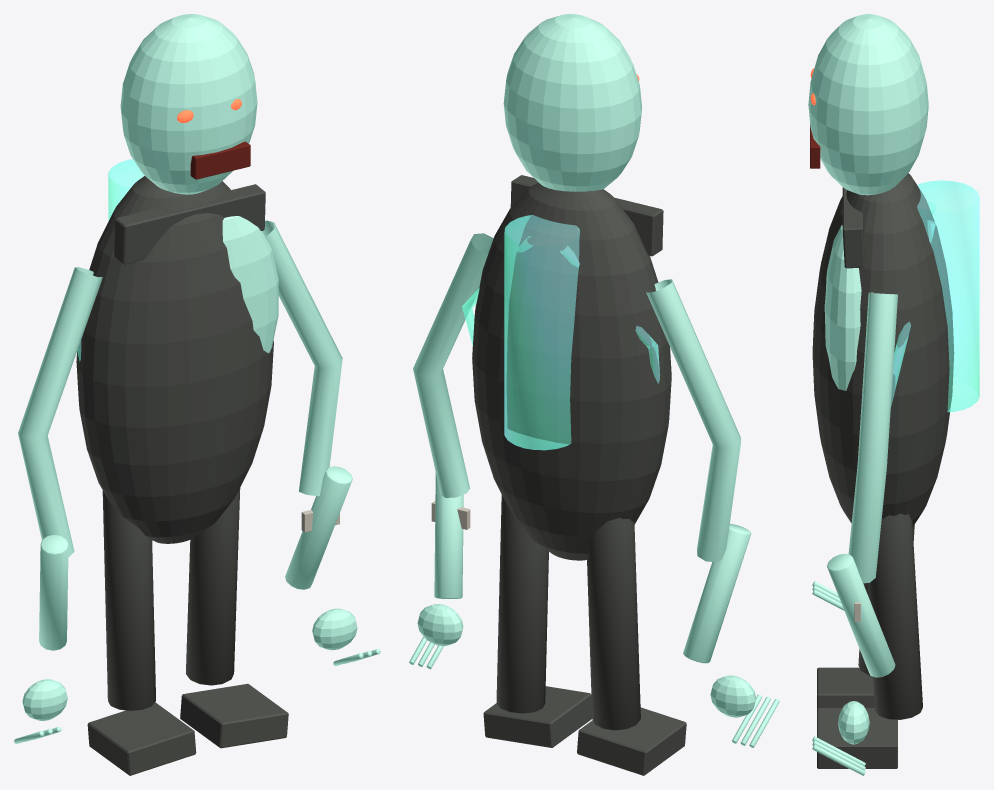
The model's file is dz_enemy_lab_male_A.glb.
3 renders of one model, left to right at view 1: azimuth 30°, elevation 25°; view 2: azimuth 150°, elevation 25°; view 3: azimuth 270°, elevation 25°, orthographic.
Visible parts, largest first — view 1: dz_torso_core, dz_head_forward, dz_limb_leg_L, dz_limb_arm_L, dz_limb_leg_R, dz_limb_arm_R, dz_foot_drag_L, dz_foot_drag_R, dz_chest_infected_growth, dz_torn_collar_male, dz_limb_forearm_R, dz_limb_forearm_L (+4 smaller); view 2: dz_torso_core, dz_head_forward, dz_back_lab_tank, dz_limb_leg_L, dz_limb_leg_R, dz_limb_arm_L, dz_limb_arm_R, dz_foot_drag_L, dz_foot_drag_R, dz_limb_forearm_L, dz_limb_forearm_R, dz_torn_collar_male (+3 smaller); view 3: dz_torso_core, dz_head_forward, dz_back_lab_tank, dz_limb_arm_R, dz_limb_leg_R, dz_chest_infected_growth, dz_limb_forearm_R, dz_foot_drag_R, dz_foot_drag_L, dz_torn_collar_male, dz_hand_claw_R, dz_lab_tube_right (+2 smaller).
Boxes of the visible parts, x1,y1,x2,y2 form: dz_torso_core: [76, 176, 273, 543]; dz_head_forward: [120, 14, 257, 194]; dz_limb_leg_L: [102, 490, 155, 710]; dz_limb_arm_L: [18, 267, 102, 556]; dz_limb_leg_R: [186, 488, 240, 685]; dz_limb_arm_R: [262, 220, 342, 496]; dz_foot_drag_L: [87, 702, 196, 775]; dz_foot_drag_R: [180, 683, 288, 748]; dz_chest_infected_growth: [222, 216, 278, 353]; dz_torn_collar_male: [114, 184, 265, 264]; dz_limb_forearm_R: [285, 466, 352, 589]; dz_limb_forearm_L: [39, 534, 68, 650]; dz_torso_core: [472, 182, 671, 560]; dz_head_forward: [503, 14, 642, 191]; dz_back_lab_tank: [504, 215, 579, 450]; dz_limb_leg_L: [587, 517, 640, 730]; dz_limb_leg_R: [496, 495, 548, 713]; dz_limb_arm_L: [646, 279, 740, 562]; dz_limb_arm_R: [413, 233, 493, 497]; dz_foot_drag_L: [577, 707, 686, 775]; dz_foot_drag_R: [483, 686, 592, 747]; dz_limb_forearm_L: [683, 523, 751, 663]; dz_limb_forearm_R: [434, 459, 463, 598]; dz_torn_collar_male: [510, 175, 663, 256]; dz_torso_core: [812, 173, 954, 526]; dz_head_forward: [808, 14, 928, 195]; dz_back_lab_tank: [917, 180, 979, 412]; dz_limb_arm_R: [848, 292, 897, 583]; dz_limb_leg_R: [867, 513, 922, 719]; dz_chest_infected_growth: [824, 225, 861, 390]; dz_limb_forearm_R: [827, 553, 895, 677]; dz_foot_drag_R: [817, 708, 897, 768]; dz_foot_drag_L: [817, 667, 874, 708]; dz_torn_collar_male: [842, 187, 864, 268]; dz_hand_claw_R: [838, 701, 869, 744]; dz_lab_tube_right: [890, 220, 935, 407].
Size of what is drawn, in the model's own units: 1.06 by 2.14 by 0.464.
